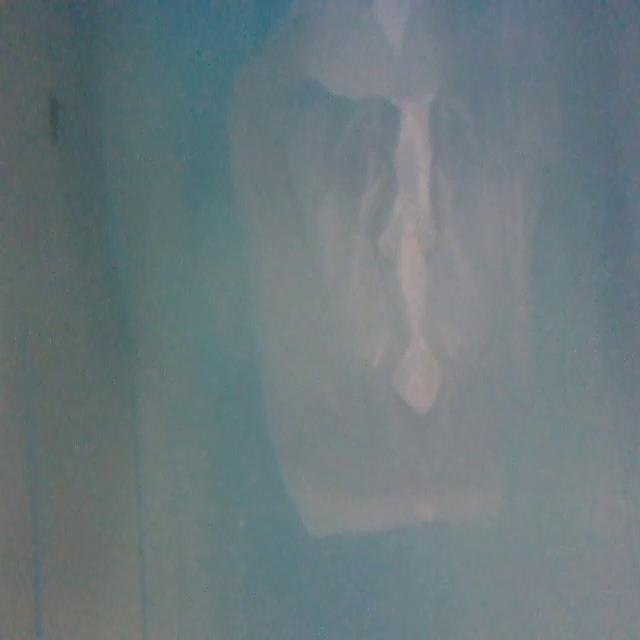plastic bags: (218, 12, 546, 550)
